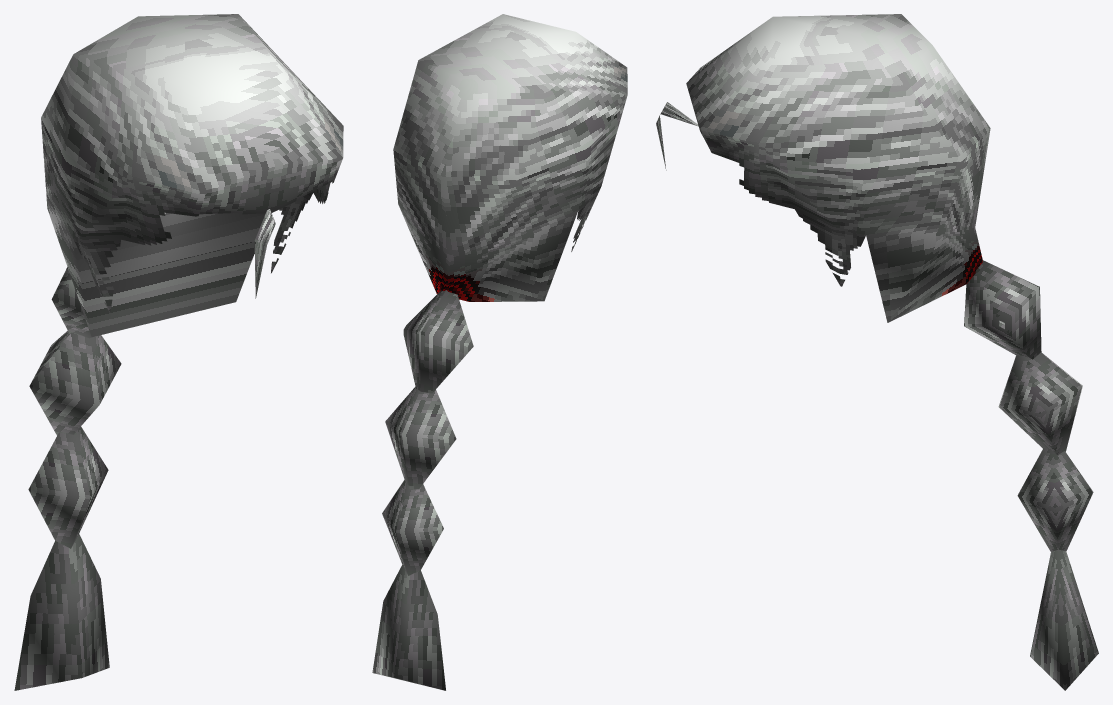
File: HUmar hair10.obj
3 renders of one model, left to right at view 1: azimuth 30°, elevation 25°; view 2: azimuth 150°, elevation 25°; view 3: azimuth 270°, elevation 25°, orthographic. The views are drawn at different scales.
Visible parts, largest first — view 1: objg_plAhai09_1, objg_plAhai09_5, objg_plAhai09_3, objg_plAhai09_4, objg_plAhai09_2; view 2: objg_plAhai09_1, objg_plAhai09_5, objg_plAhai09_2, objg_plAhai09_3, objg_plAhai09_4; view 3: objg_plAhai09_1, objg_plAhai09_5, objg_plAhai09_2, objg_plAhai09_3, objg_plAhai09_4.
Part boxes in pixels (x1=…): objg_plAhai09_1: x1=41, y1=14, x2=343, y2=337; objg_plAhai09_5: x1=14, y1=534, x2=109, y2=690; objg_plAhai09_3: x1=29, y1=330, x2=121, y2=435; objg_plAhai09_4: x1=28, y1=427, x2=108, y2=548; objg_plAhai09_2: x1=51, y1=267, x2=91, y2=338; objg_plAhai09_1: x1=393, y1=14, x2=627, y2=301; objg_plAhai09_5: x1=372, y1=565, x2=445, y2=690; objg_plAhai09_2: x1=403, y1=290, x2=473, y2=393; objg_plAhai09_3: x1=385, y1=386, x2=456, y2=489; objg_plAhai09_4: x1=382, y1=480, x2=443, y2=575; objg_plAhai09_1: x1=656, y1=14, x2=990, y2=322; objg_plAhai09_5: x1=1030, y1=549, x2=1098, y2=690; objg_plAhai09_2: x1=964, y1=260, x2=1041, y2=359; objg_plAhai09_3: x1=998, y1=352, x2=1082, y2=455; objg_plAhai09_4: x1=1017, y1=448, x2=1093, y2=551.
Bounding box in the file's own units: 0.7188 × 2.21 × 1.39.
Materials: 1 (1 with a texture image).
